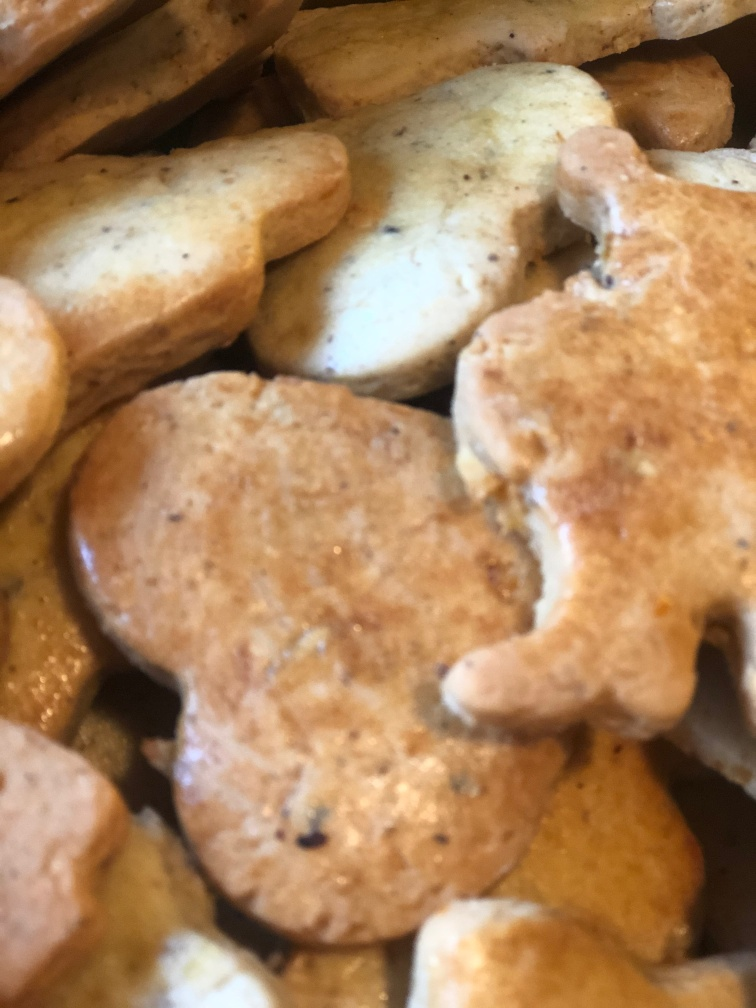heart: (57, 372, 586, 945)
santa claus: (439, 121, 755, 730)
